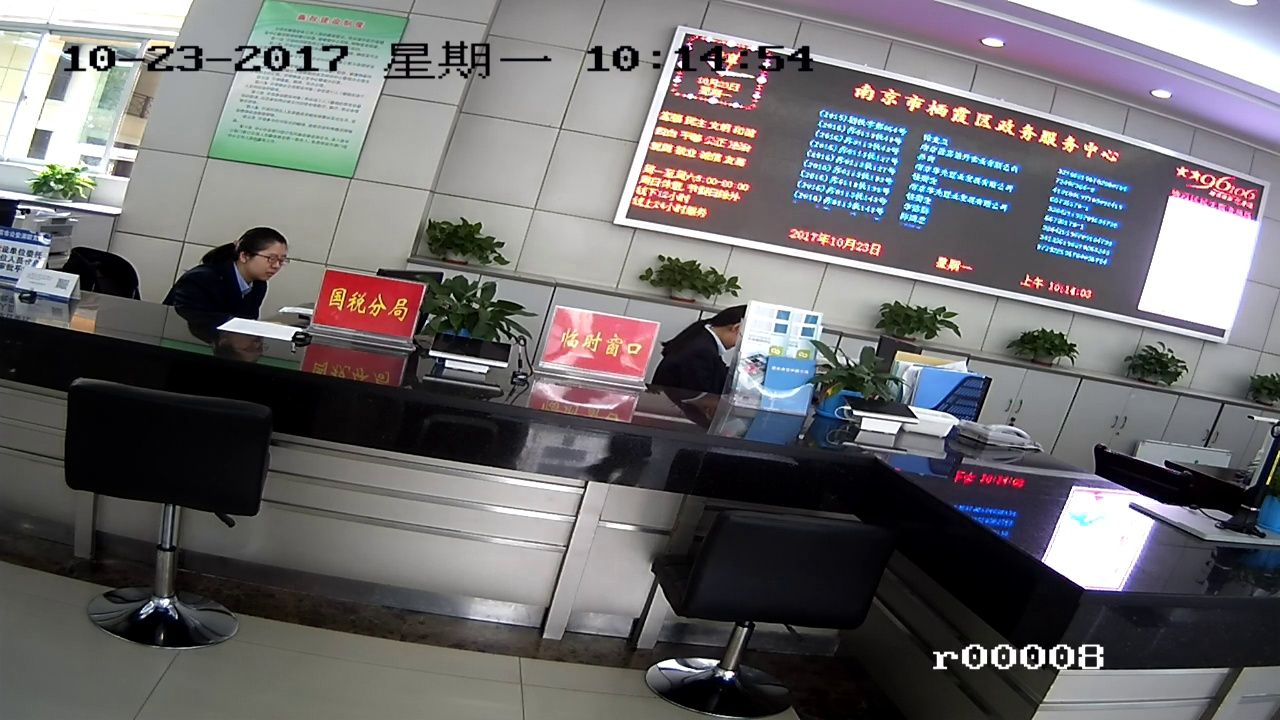billboard: (251, 7, 374, 189)
chair: (69, 382, 275, 661), (657, 525, 900, 707)
monitor: (656, 44, 1226, 338)
person: (182, 225, 298, 315), (677, 284, 754, 392)
pot: (423, 276, 506, 343), (874, 297, 949, 343), (647, 259, 729, 300), (438, 217, 505, 259), (1016, 325, 1074, 369), (1136, 354, 1190, 390)
